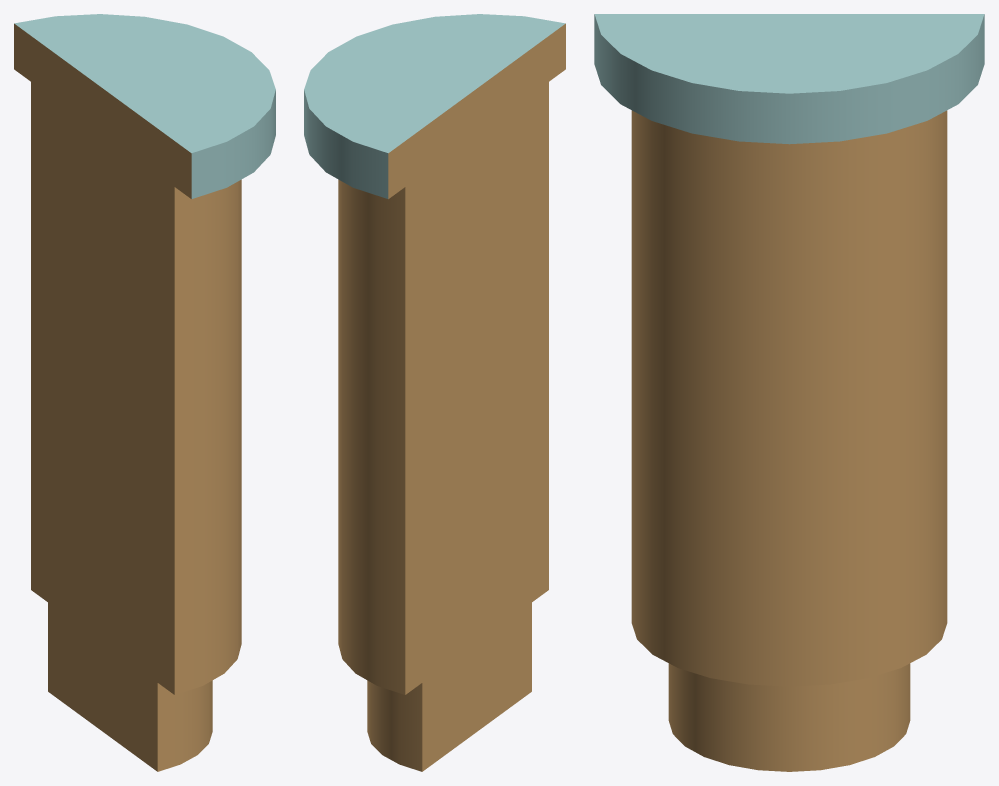
File: kitchenBarEnd.glb
The picture shows the model from 3 angles, left to right: view 1: azimuth 30°, elevation 25°; view 2: azimuth 150°, elevation 25°; view 3: azimuth 270°, elevation 25°; orthographic projection. The views are drawn at different scales.
Bounding box in the file's own units: 1.02 × 4.2 × 2.1.
